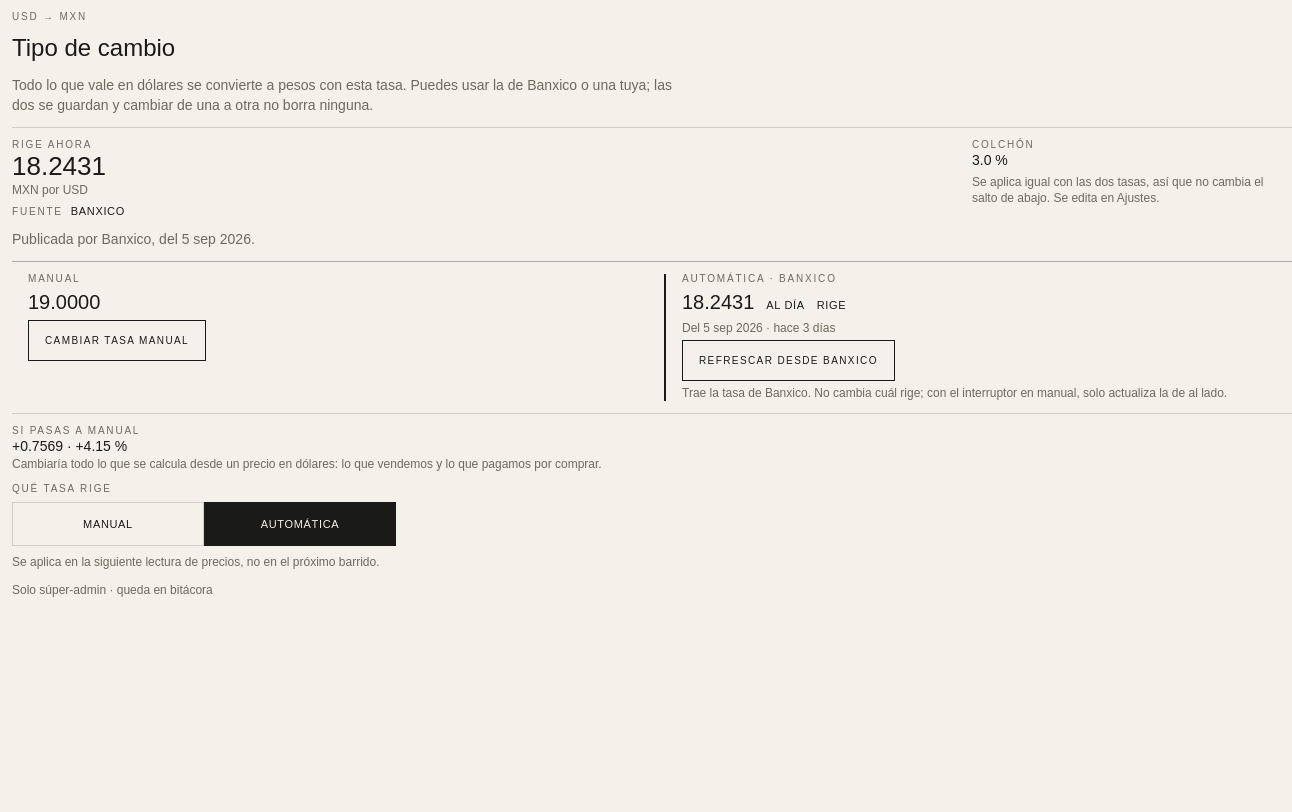
Test case: FX-UI-9 ⭐ · guardar una tasa en modo `auto` NO parece que no hizo nada › se lee «guardada, todavía no rige», la cifra grande no se mueve y ⛔ nada de «actualizado»
Click the button "Cambiar tasa manual" at (117, 341), box [28,320,206,361]
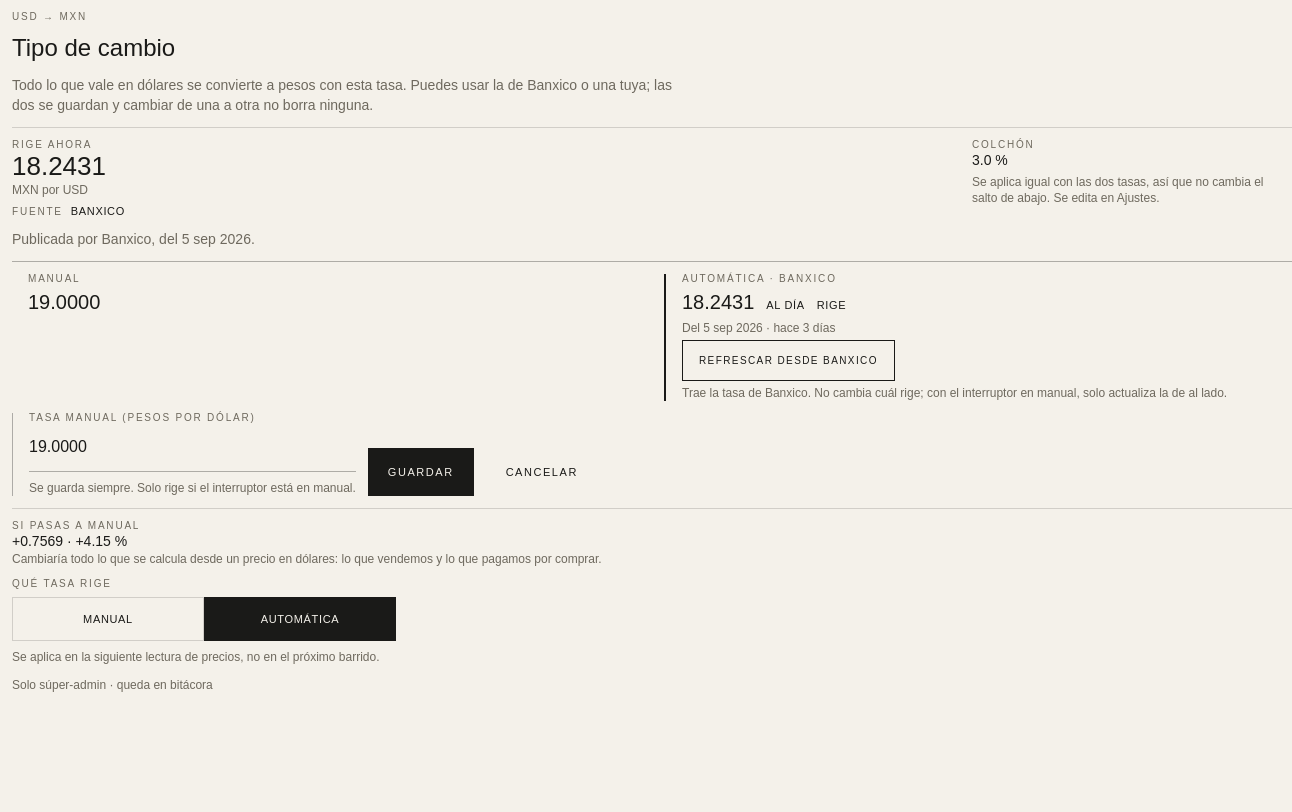
Replace the text in the field labelled "Tasa manual (pesos por dólar)" with "25" at (109, 447), box [29,435,189,459]
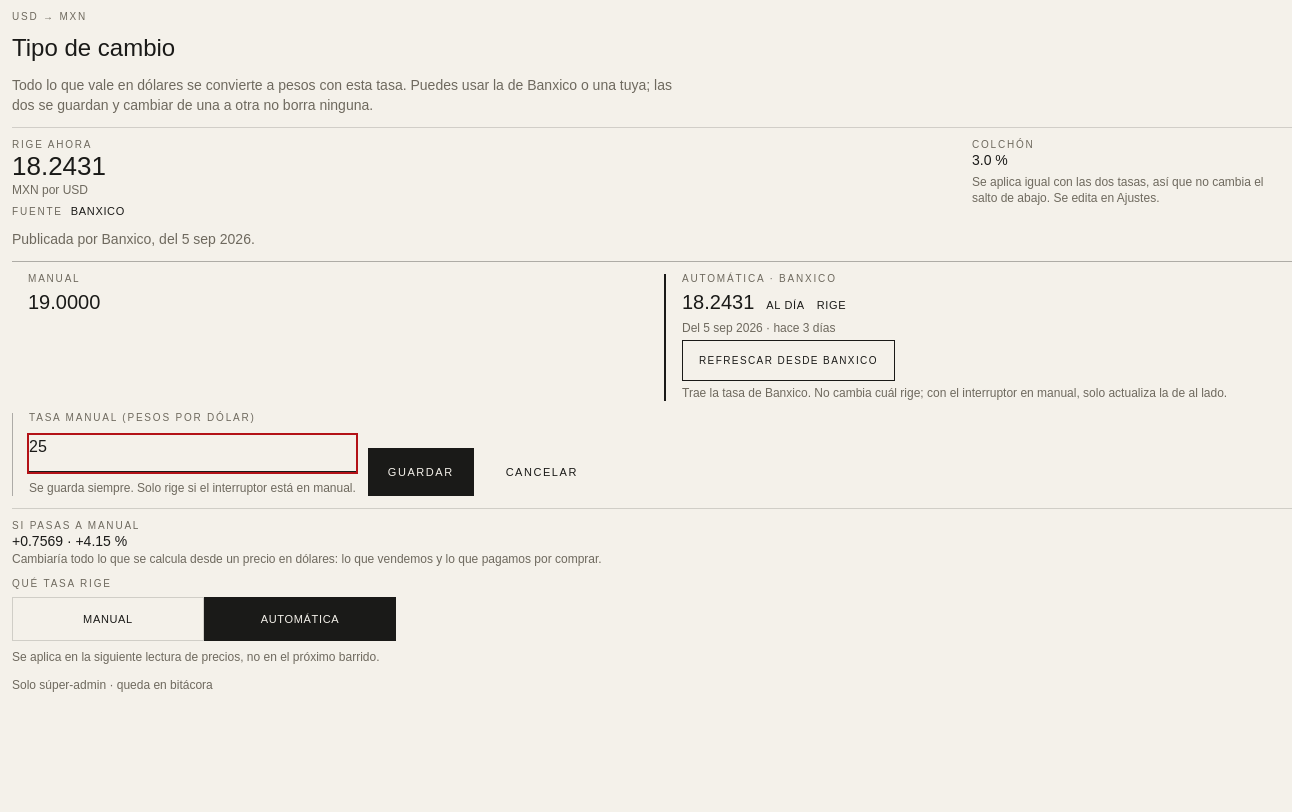
Click the button "Guardar" at (421, 472), box [368,448,474,496]
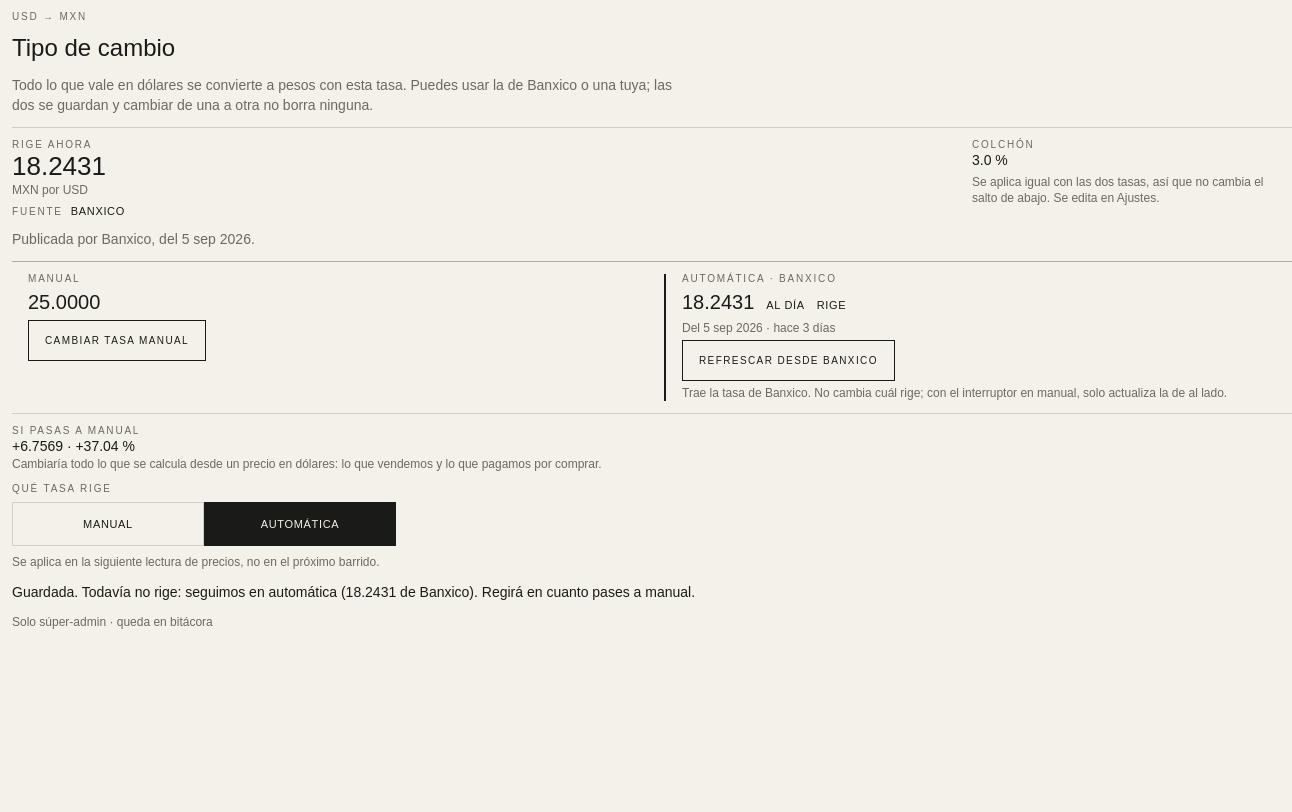
Expected: the text with test id "fx-current" reads "18.2431", [12,151,106,181]
Result: the text "Guardada. Todavía no rige: seguimos en automática (18.2431 de Banxico). Regirá en cuanto pases a manual." is shown at [12,584,695,600]
Result: the text "25.0000" is shown at [28,288,100,316]
